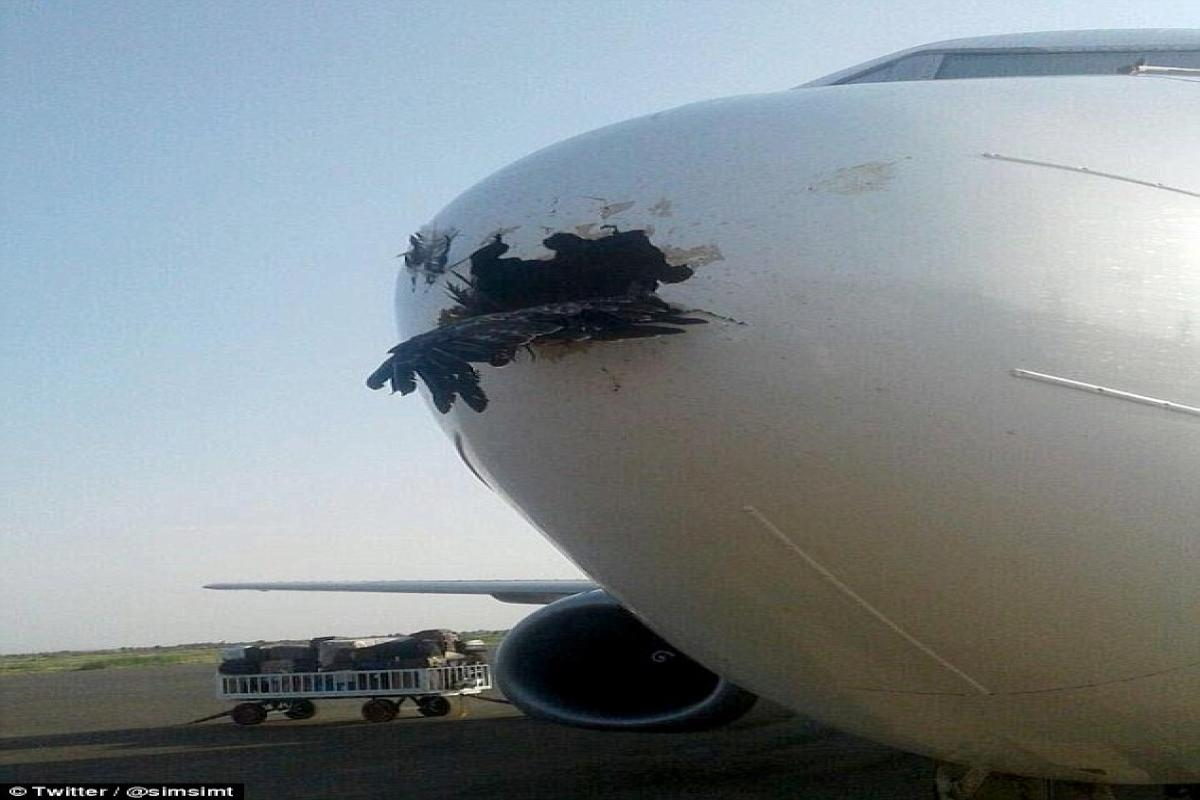Fuselage_damage: (364, 223, 754, 418)
